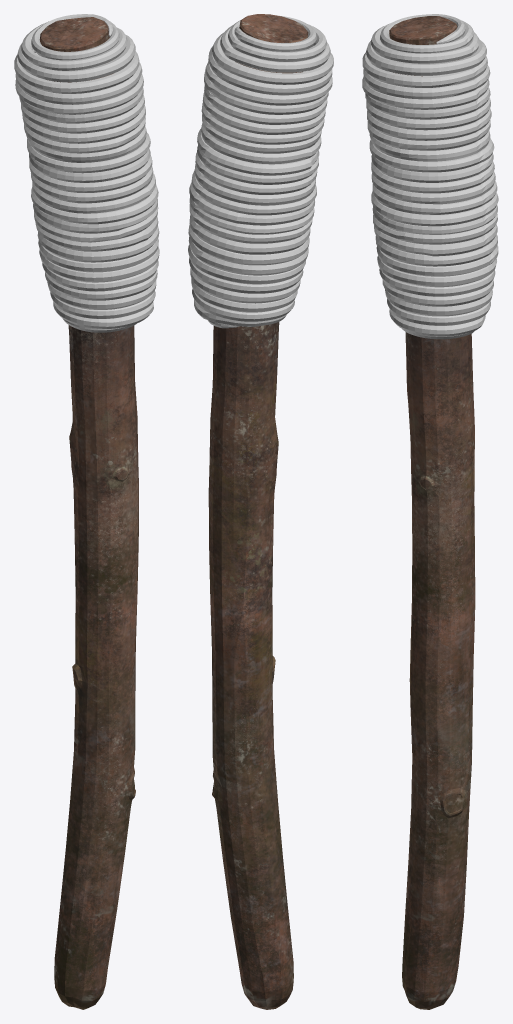
The model's file is Hand_Torch.obj.
3 renders of one model, left to right at view 1: azimuth 30°, elevation 25°; view 2: azimuth 210°, elevation 25°; view 3: azimuth 330°, elevation 25°, orthographic.
Visible parts, largest first — view 1: Stick, Rope; view 2: Stick, Rope; view 3: Stick, Rope.
Part boxes in pixels (box(x1,y1,x2,y2)): Stick: box(39, 17, 138, 1009); Rope: box(14, 14, 159, 332); Stick: box(208, 14, 308, 1009); Rope: box(188, 15, 333, 328); Stick: box(389, 16, 475, 1009); Rope: box(362, 14, 498, 339).
Size of the model in its own units: 5.85 by 44.26 by 5.57.
